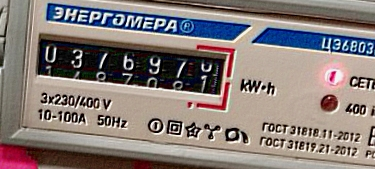0: (42, 41, 57, 64)
1: (196, 73, 209, 94)
3: (69, 47, 85, 69)
6: (120, 48, 137, 72)
7: (94, 47, 111, 72), (172, 55, 189, 80)
9: (146, 52, 162, 75)
screen: (25, 20, 240, 114)
